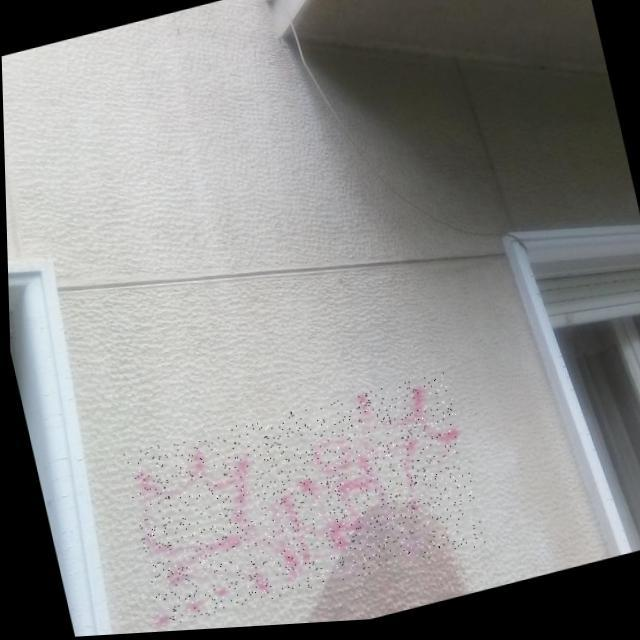-: (118, 376, 484, 630)
